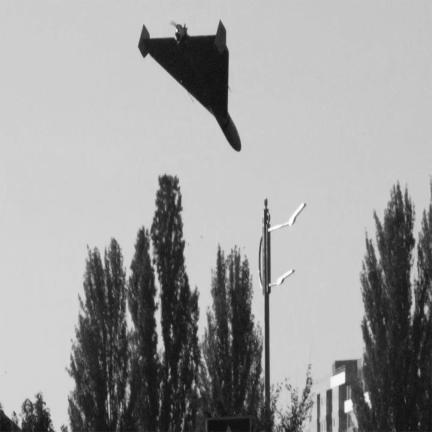Shahed: (139, 21, 241, 151)
